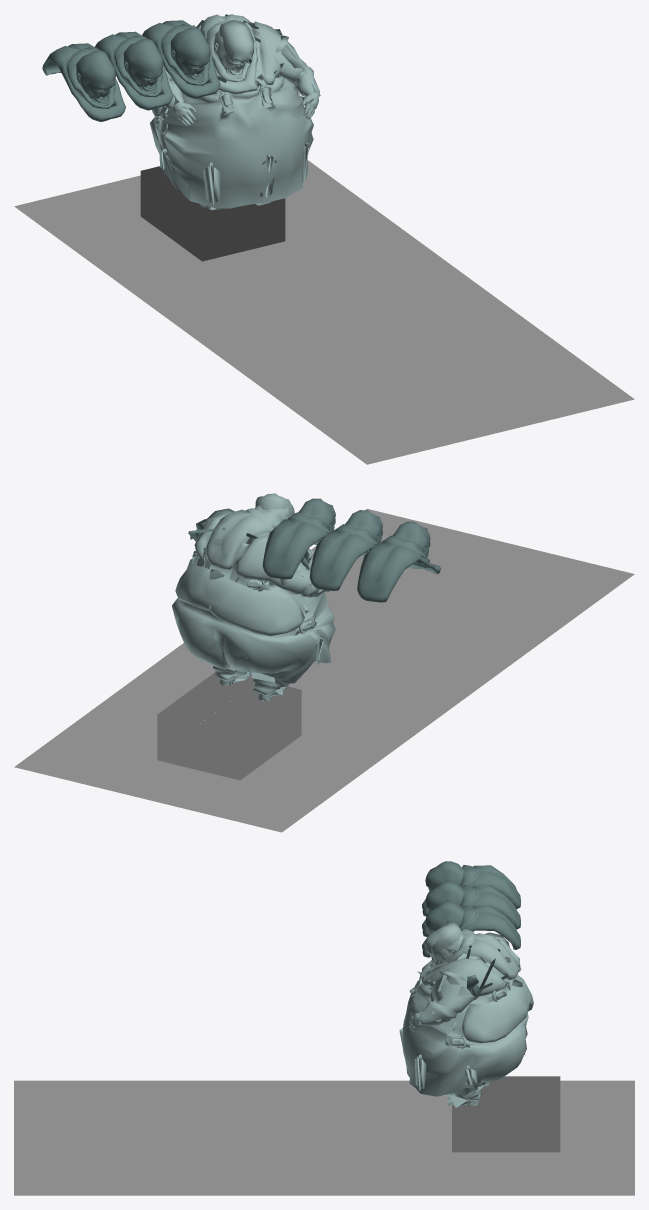
The model's file is ButcherBoy_JolyonWebb.obj.
3 renders of one model, top to bottom at view 1: azimuth 30°, elevation 25°; view 2: azimuth 150°, elevation 25°; view 3: azimuth 270°, elevation 25°, orthographic. The views are drawn at different scales.
Parts seen in each view (by area): view 1: Floor, __Body, Box, Head_MorphNeutral, Head_Morph_BrowsDown, Head_Morph_Blink, __Head; view 2: Floor, __Body, Box, Head_MorphNeutral, Head_Morph_BrowsDown, Head_Morph_Blink, __Head; view 3: Floor, __Body, Box, __Head, Head_Morph_Blink, Head_MorphNeutral, Head_Morph_BrowsDown, Bip01_L_UpperArm, Bip01_Head, ShoulderSystemMesh.
Part boxes in pixels (x1=…): Floor: x1=14, y1=160, x2=634, y2=464; __Body: x1=150, y1=21, x2=319, y2=208; Box: x1=140, y1=166, x2=285, y2=261; Head_MorphNeutral: x1=42, y1=43, x2=125, y2=121; Head_Morph_BrowsDown: x1=95, y1=31, x2=173, y2=110; Head_Morph_Blink: x1=142, y1=20, x2=220, y2=98; __Head: x1=200, y1=14, x2=257, y2=94; Floor: x1=14, y1=509, x2=634, y2=832; __Body: x1=172, y1=511, x2=335, y2=701; Box: x1=157, y1=672, x2=301, y2=780; Head_MorphNeutral: x1=357, y1=521, x2=440, y2=602; Head_Morph_BrowsDown: x1=309, y1=510, x2=382, y2=590; Head_Morph_Blink: x1=262, y1=498, x2=335, y2=579; __Head: x1=205, y1=493, x2=291, y2=569; Floor: x1=14, y1=1080, x2=634, y2=1195; __Body: x1=402, y1=936, x2=533, y2=1105; Box: x1=452, y1=1076, x2=560, y2=1152; __Head: x1=420, y1=926, x2=518, y2=979; Head_Morph_Blink: x1=422, y1=901, x2=520, y2=957; Head_MorphNeutral: x1=422, y1=861, x2=520, y2=916; Head_Morph_BrowsDown: x1=422, y1=881, x2=520, y2=936; Bip01_L_UpperArm: x1=431, y1=971, x2=473, y2=1002; Bip01_Head: x1=430, y1=922, x2=462, y2=958; ShoulderSystemMesh: x1=431, y1=939, x2=507, y2=997.
Size of the model in its own units: 299 by 214 by 579.
